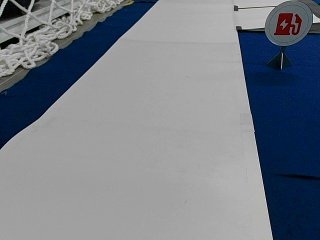battery: (264, 0, 313, 46)
